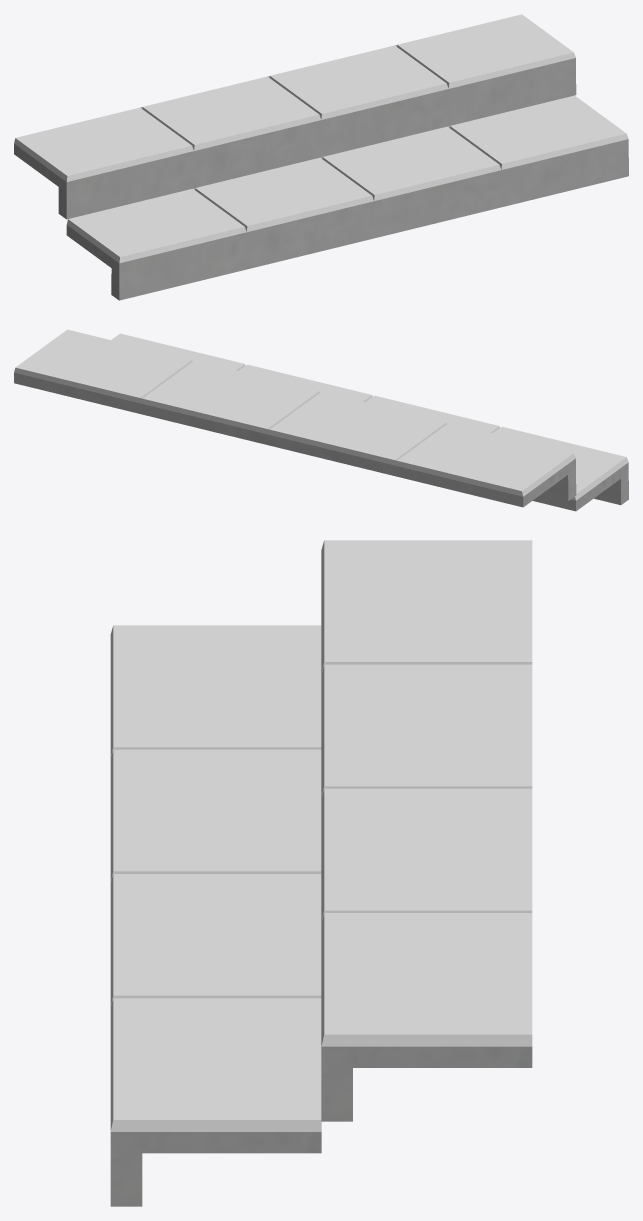
Rendered from StairMarble.fbx.
The picture shows the model from 3 angles, top to bottom: view 1: azimuth 30°, elevation 25°; view 2: azimuth 150°, elevation 25°; view 3: azimuth 270°, elevation 25°; orthographic projection. The views are drawn at different scales.
Parts seen in each view (by area): view 1: StairMarble; view 2: StairMarble; view 3: StairMarble.
Boxes of the visible parts, bbox=[...] form: StairMarble: bbox=[14, 14, 628, 300]; StairMarble: bbox=[14, 329, 628, 511]; StairMarble: bbox=[110, 540, 532, 1206].
Size of what is drawn, in the model's own units: 200 by 31.96 by 71.73.
